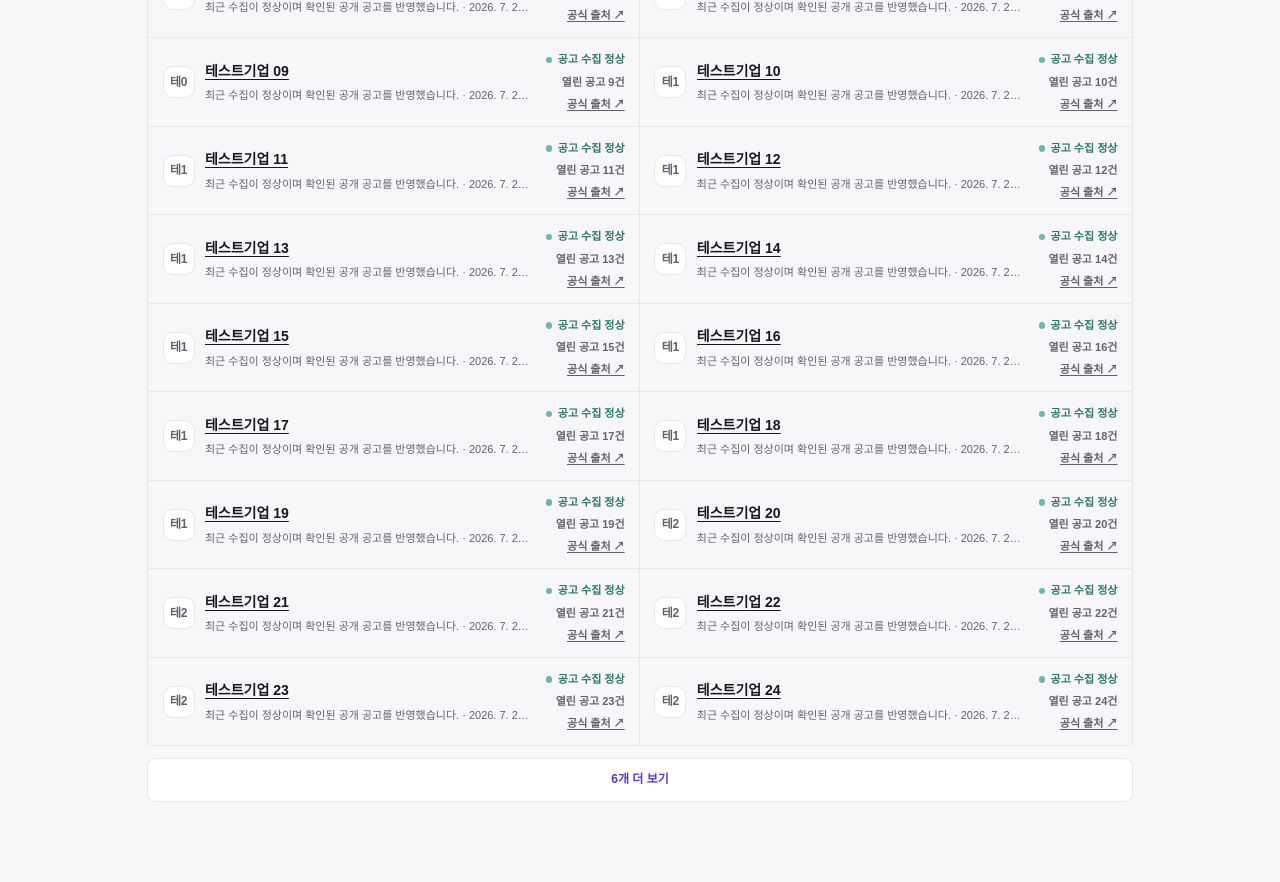
Test: public trust pages › reveals a large source directory in compact increments
(page scrolled)
expect the link with aria-label "테스트기업 24 공고 보기" is shown: met, box [697,682,781,698]
Click the button with aria-label "6개 기업 더 보기, 모두 표시하면 남은 기업 0개" at (640, 780), box [147,758,1133,802]
(page scrolled)
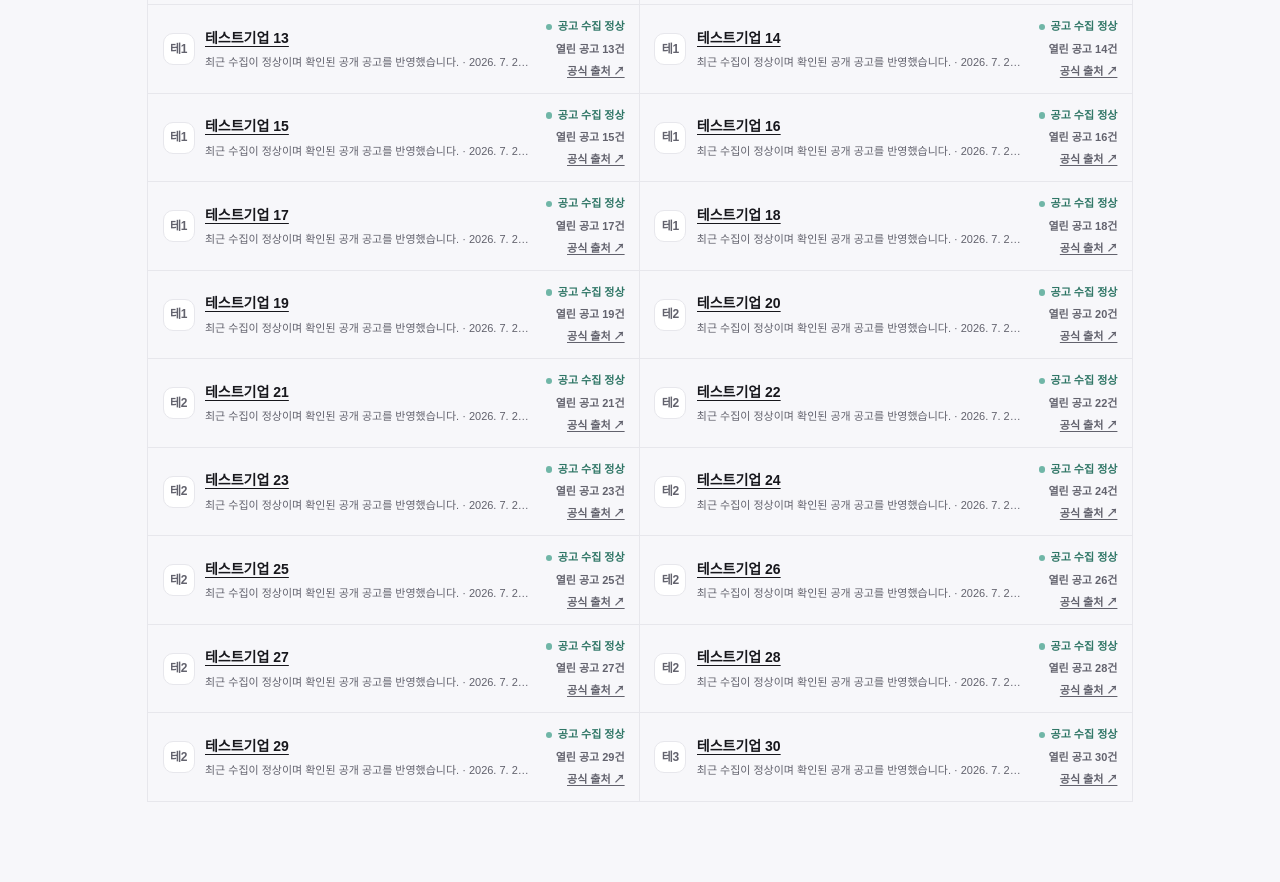
expect the link with aria-label "테스트기업 30 공고 보기" is shown: met, box [697,738,781,754]
